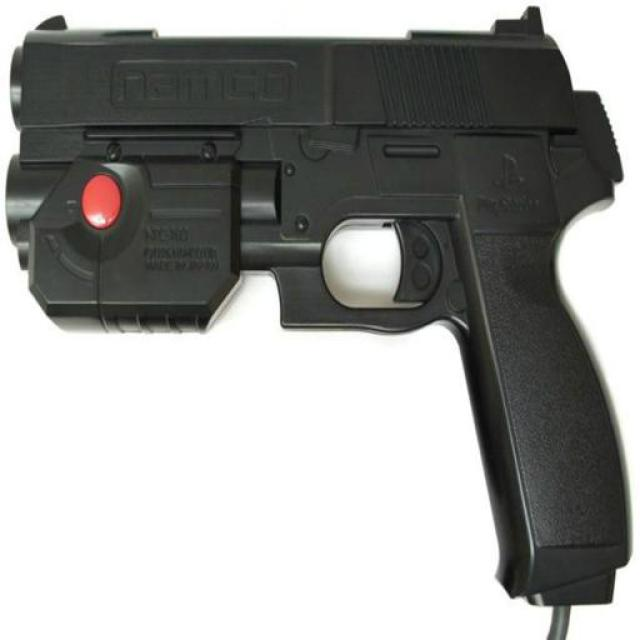pistol: (11, 13, 631, 609)
